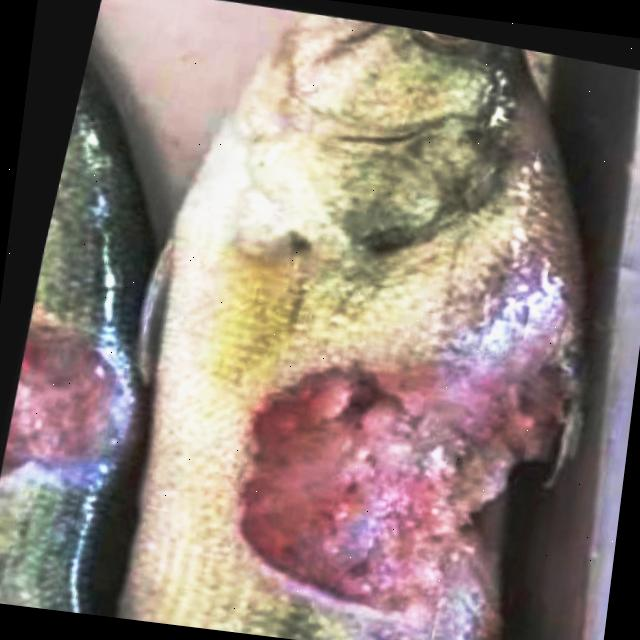Columnaris Disease: (119, 17, 582, 640), (119, 17, 581, 640), (0, 73, 153, 617), (0, 75, 152, 617)
